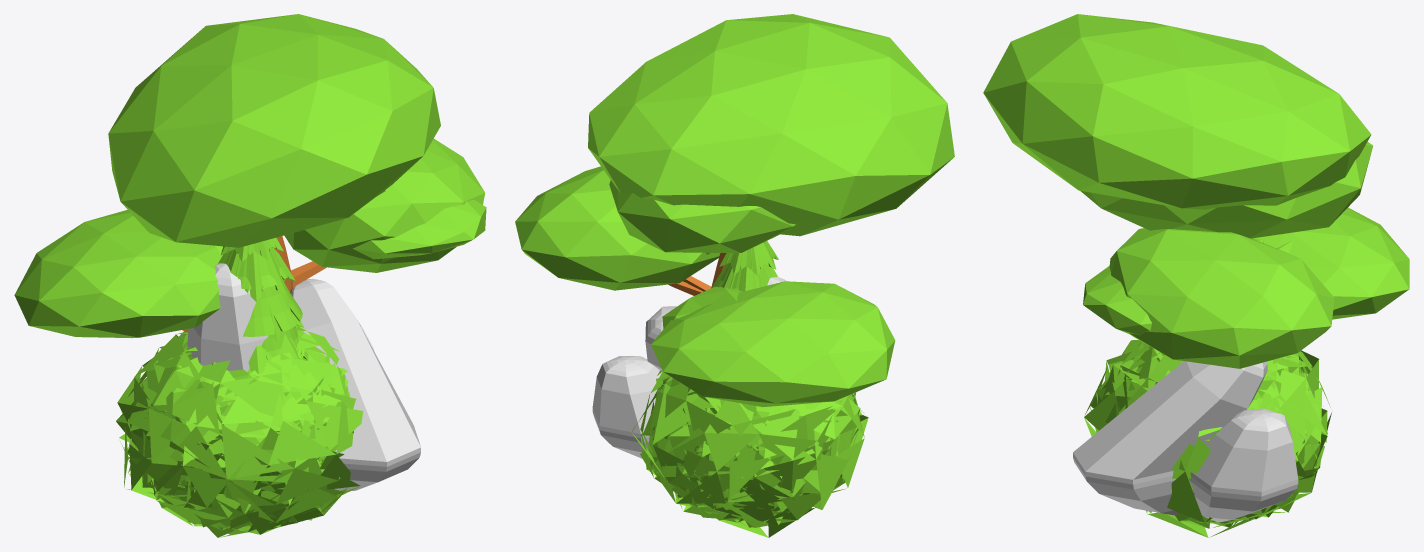
File: LowPolyTreeB 1.fbx
The picture shows the model from 3 angles, left to right: view 1: azimuth 30°, elevation 25°; view 2: azimuth 150°, elevation 25°; view 3: azimuth 270°, elevation 25°; orthographic projection. The views are drawn at different scales.
Parts seen in each view (by area): view 1: Acacia1, Bush, Rock, Acacia2, SpikyPine, RoundPine; view 2: Acacia1, Bush, Acacia2, Rock, SpikyPine; view 3: Acacia1, Rock, Bush, Acacia2.
Boxes of the visible parts, x1,y1,x2,y2 form: Acacia1: (14,14,484,338); Bush: (116,326,363,537); Rock: (187,263,420,490); Acacia2: (213,190,486,293); SpikyPine: (185,238,304,376); RoundPine: (225,248,308,375); Acacia1: (515,14,954,406); Bush: (632,370,868,537); Acacia2: (609,180,796,328); Rock: (592,277,786,458); SpikyPine: (711,241,778,291); Acacia1: (983,14,1409,368); Rock: (1073,361,1298,522); Bush: (1084,340,1331,537); Acacia2: (1080,141,1372,335).
Bounding box in the file's own units: 698 × 796 × 634.
